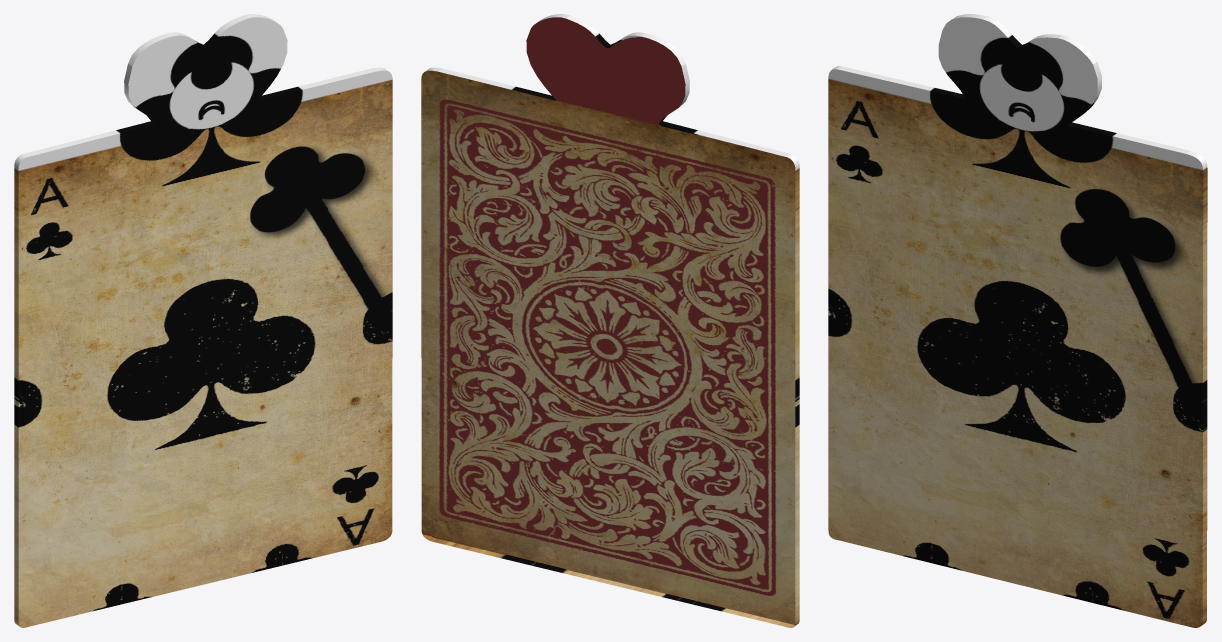
File: card heart.FBX
The picture shows the model from 3 angles, left to right: view 1: azimuth 30°, elevation 25°; view 2: azimuth 150°, elevation 25°; view 3: azimuth 330°, elevation 25°; orthographic projection.
Parts seen in each view (by area): view 1: Line003; view 2: Line003; view 3: Line003.
Boxes of the visible parts, bbox=[...] form: Line003: bbox=[14, 14, 392, 627]; Line003: bbox=[421, 14, 799, 627]; Line003: bbox=[828, 14, 1207, 627].
Bounding box in the file's own units: 49.94 × 70.92 × 1.
Materials: 2 (2 with a texture image).
